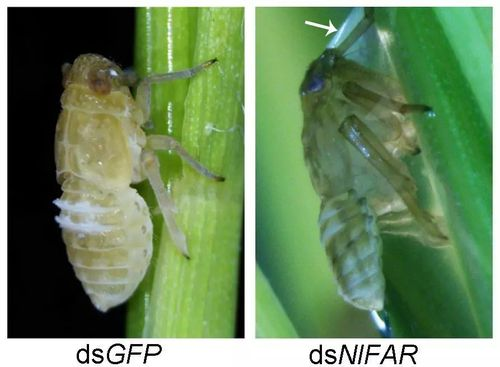Delphacidae: (299, 9, 452, 335), (52, 52, 226, 313)
